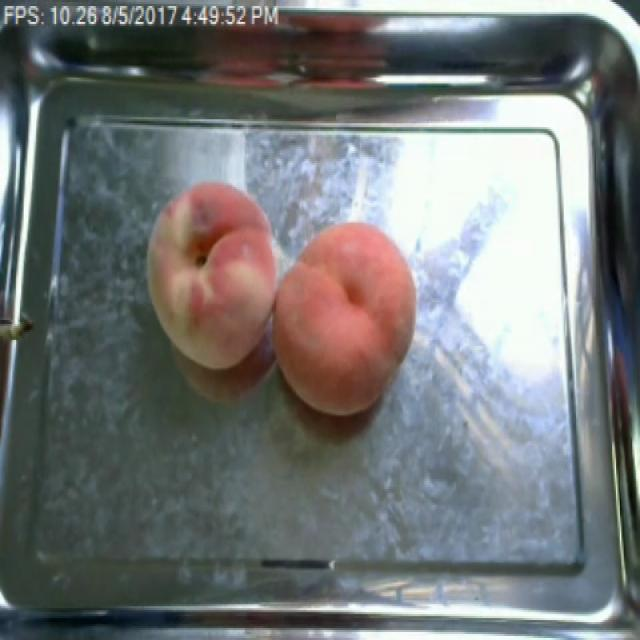Fruit: (266, 211, 426, 425), (139, 171, 285, 376)
